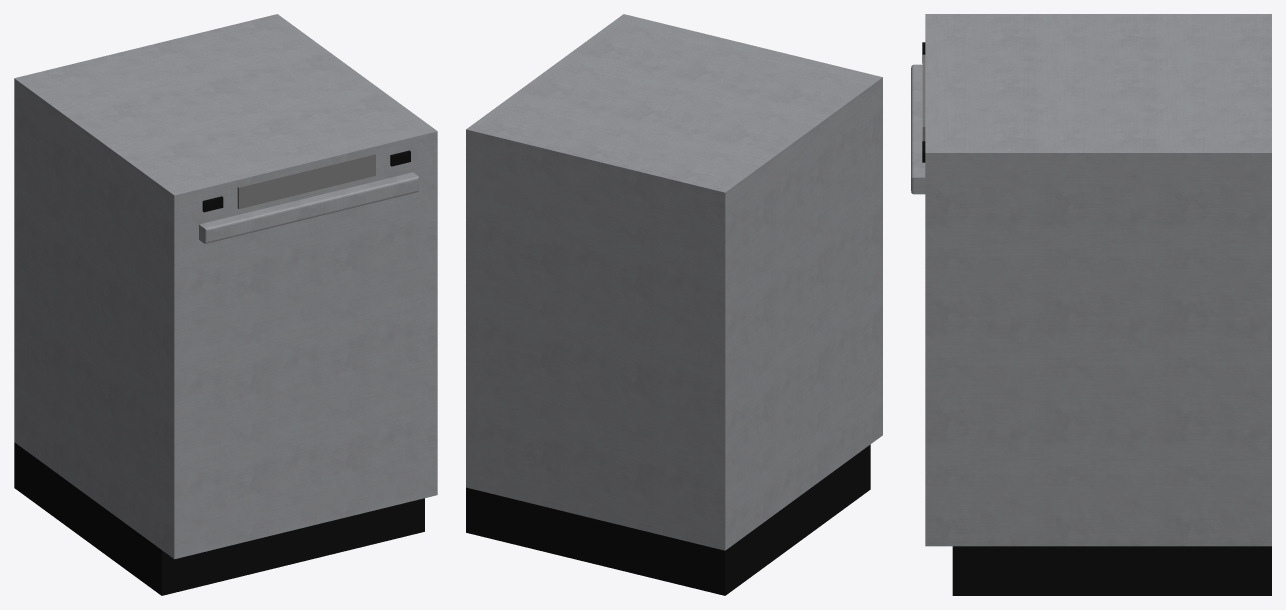
File: DISHWASHER_24_XL.glb
3 views of the same model, side by side, from view 1: azimuth 30°, elevation 25°; view 2: azimuth 150°, elevation 25°; view 3: azimuth 270°, elevation 25° (orthographic). The views are drawn at different scales.
Visible parts, largest first — view 1: Diswasher_Standard; view 2: Diswasher_Standard; view 3: Diswasher_Standard.
Part boxes in pixels (x1=…): Diswasher_Standard: x1=14, y1=14, x2=437, y2=595; Diswasher_Standard: x1=466, y1=14, x2=882, y2=595; Diswasher_Standard: x1=911, y1=14, x2=1271, y2=595.
Bounding box in the file's own units: 600 × 892 × 658.
3 materials, 1 textured.
